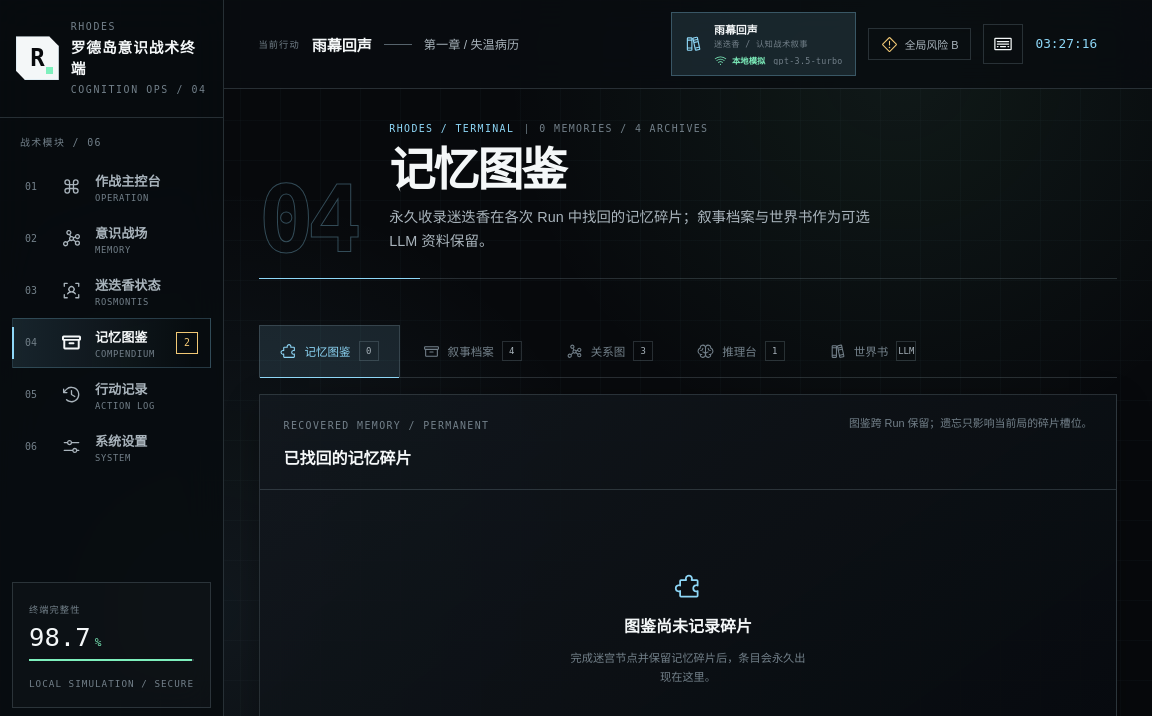
Test case: 自动建档 LLM 线索并保留回合来源
The image size is (1152, 716).
Expected: the heading "记忆图鉴" is shown, [389,144,565,196]
Expected: the button with aria-label "当前会话：雨幕回声" is shown, [671,12,856,76]
Click the tab "叙事档案 4".
click(472, 351)  # box [402,325,543,377]
(page scrolled)
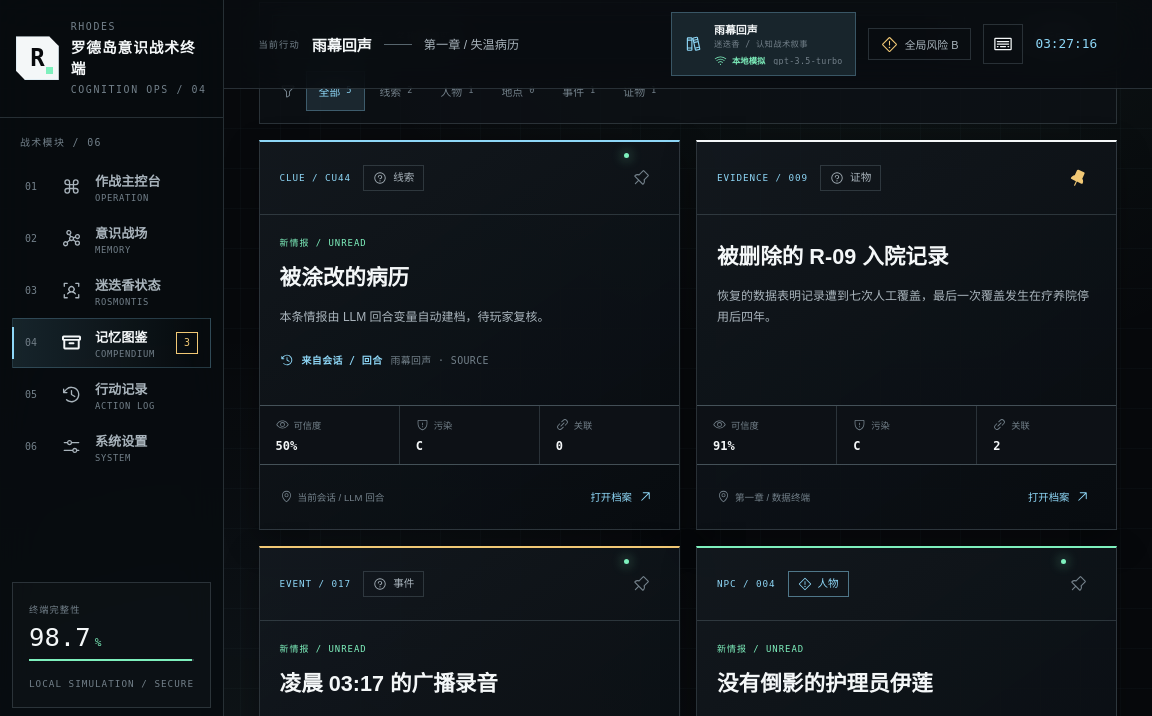
Result: the heading "被涂改的病历" is shown at [280,265,409,290]
Result: the link with aria-label "打开来自会话雨幕回声的来源回合" is shown at [280,353,489,367]
